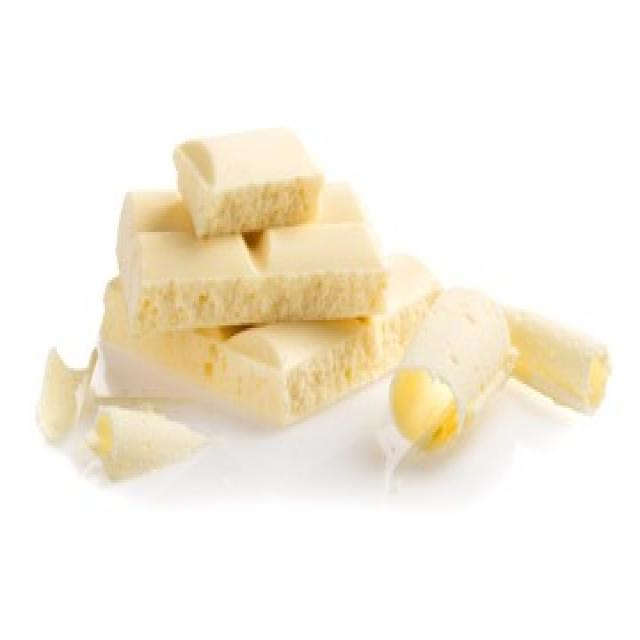chocolate: (101, 121, 442, 439), (112, 162, 384, 332), (174, 108, 310, 243)
